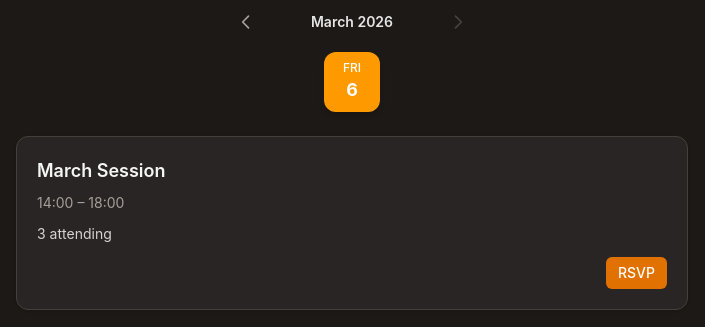
Scenario: SessionsPage › navigates between months and shows correct sessions
Check: the text "March 2026" is shown, box [311,13,393,30]
Check: the link "March Session" is shown, box [37,157,166,185]
Note: Navigate to previous month (February)
Step 1. Click the button named "Previous month" → (246, 22), box [232,8,260,36]
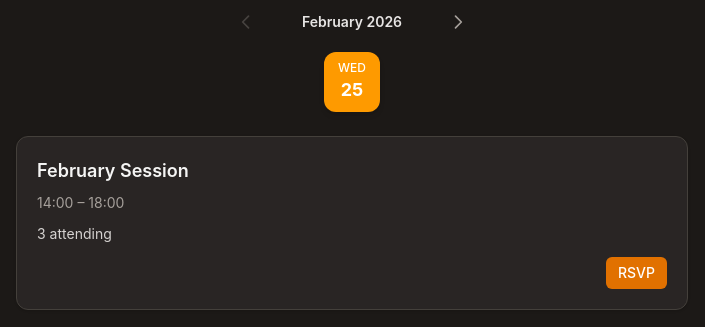
Check: the text "February 2026" is shown, box [302,13,402,30]
Check: the link "February Session" is shown, box [37,157,189,185]
Check: the link "March Session" is gone
